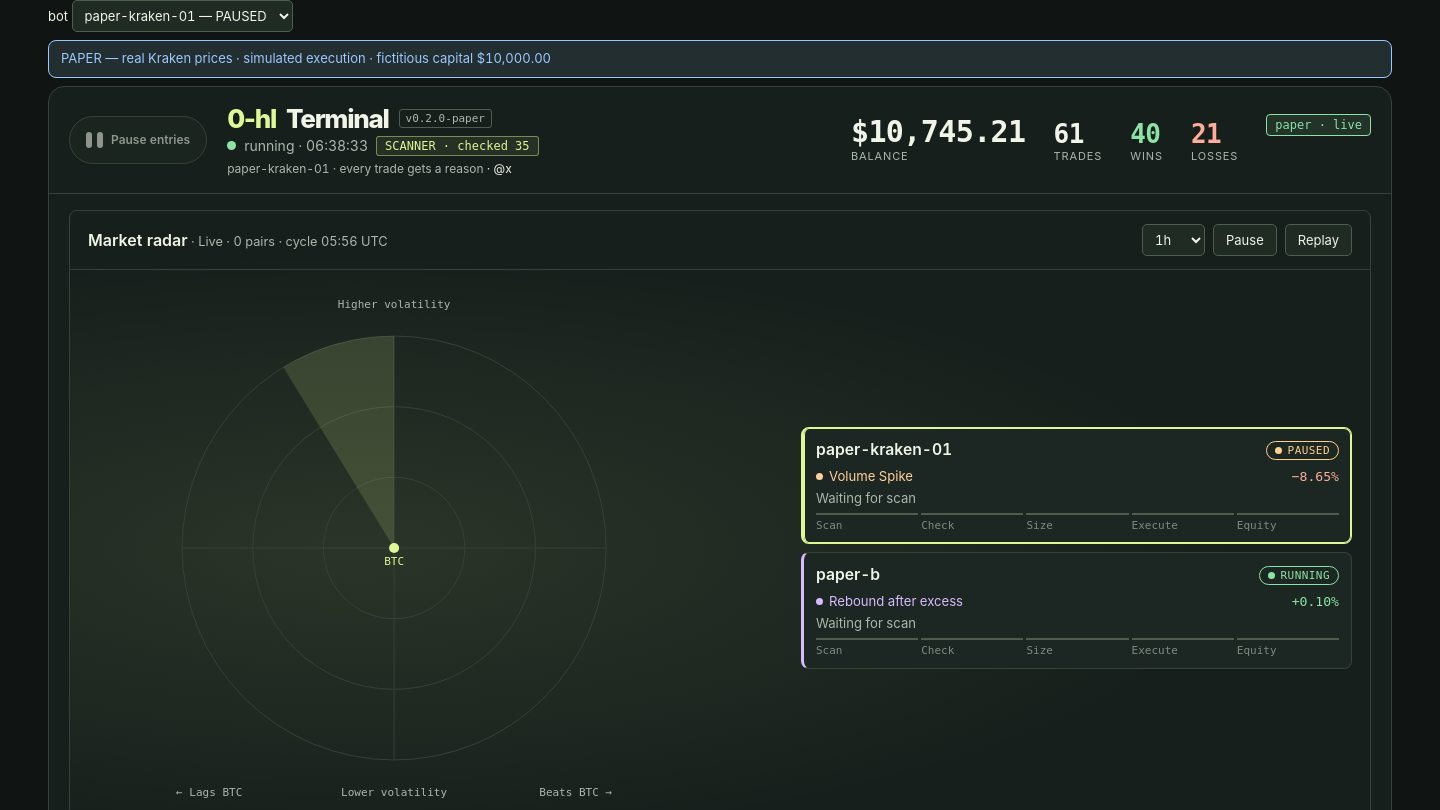
Test: shows the radar and opens the agent drawer of the bot whose step is clicked
Later steps or results of the test are not shown.
expect the element with test id "botcard-paper-b" shows "Rebound after excess": met, box [829,593,963,609]
Step 1. Click the button "Size" below "Rebound after excess" → point(1078, 650), box [1026,644,1129,657]
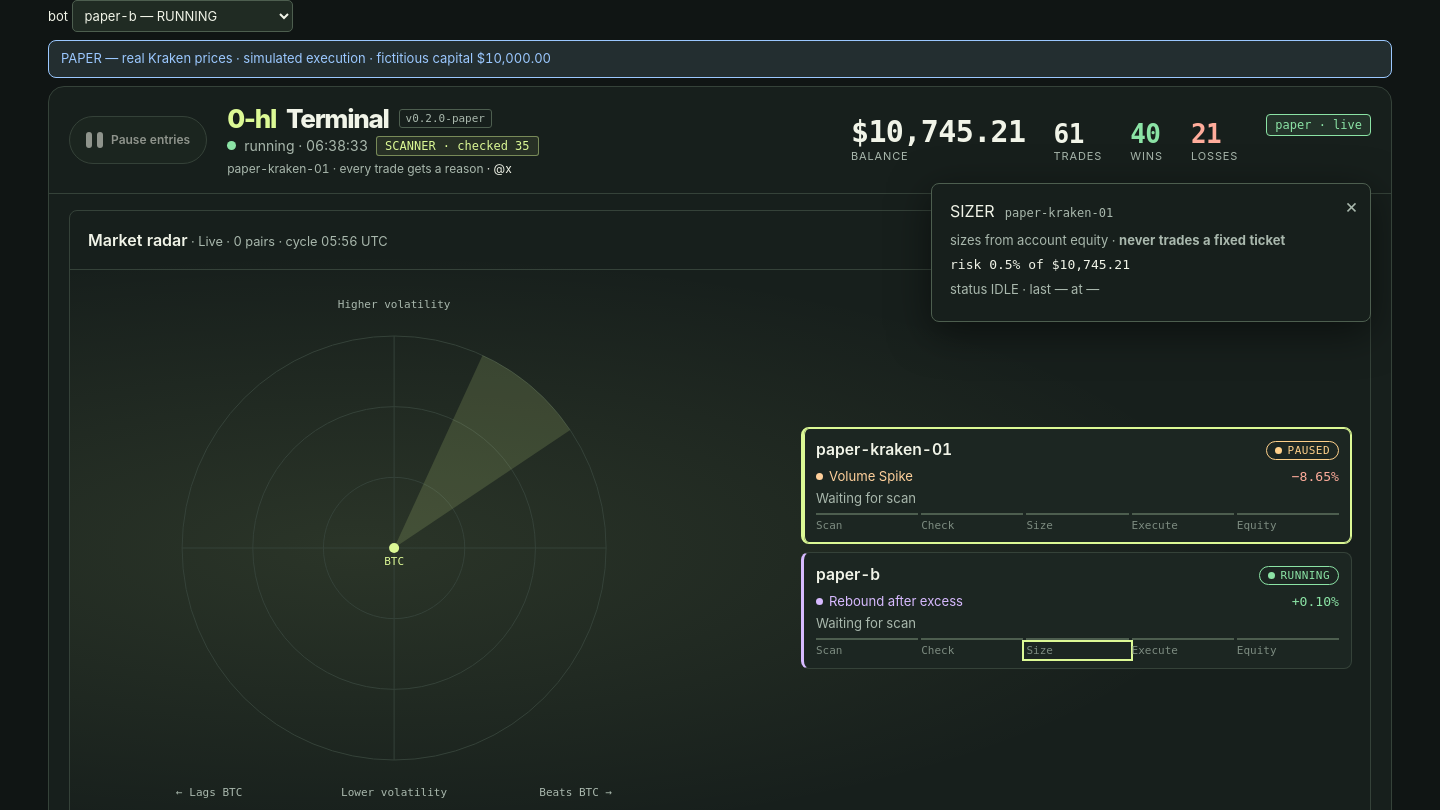
expect the dialog named "SIZER details" is shown: met, box [931,182,1371,322]
